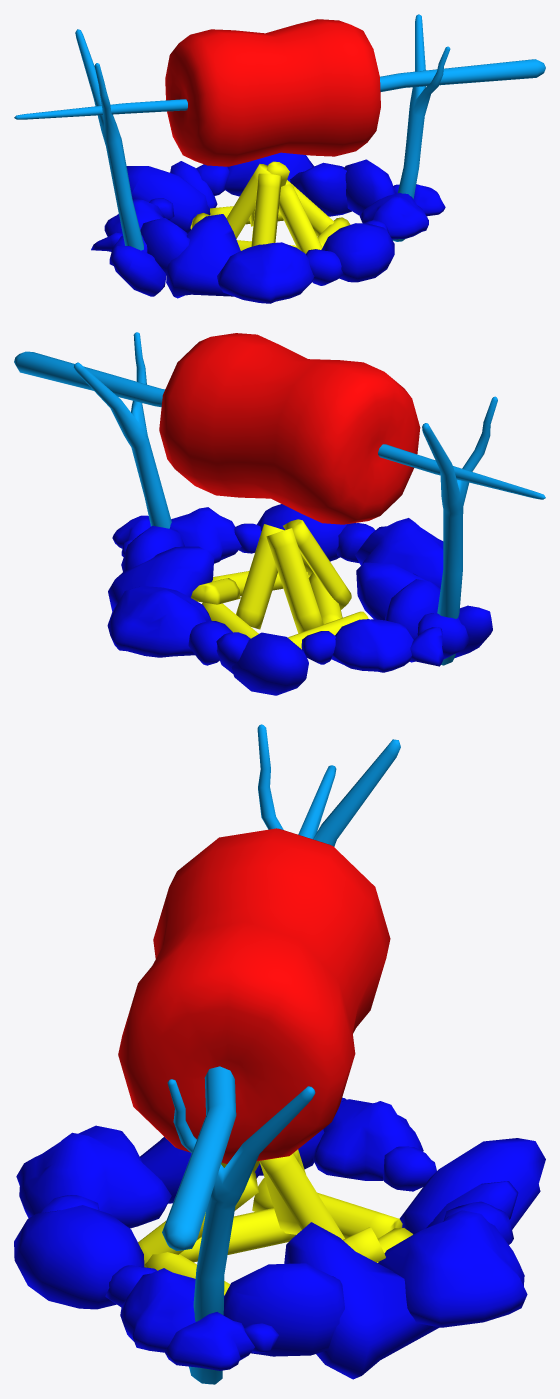
File: Meat_over_Campfire.fbx
The picture shows the model from 3 angles, top to bottom: view 1: azimuth 30°, elevation 25°; view 2: azimuth 150°, elevation 25°; view 3: azimuth 270°, elevation 25°; orthographic projection. The views are drawn at different scales.
Parts seen in each view (by area): view 1: Cylinder2575; view 2: Cylinder2575; view 3: Cylinder2575.
Boxes of the visible parts, x1,y1,x2,y2 form: Cylinder2575: (14, 14, 545, 303); Cylinder2575: (14, 332, 545, 695); Cylinder2575: (14, 724, 545, 1384).
Bounding box in the file's own units: 4.72 × 2.24 × 2.55.
